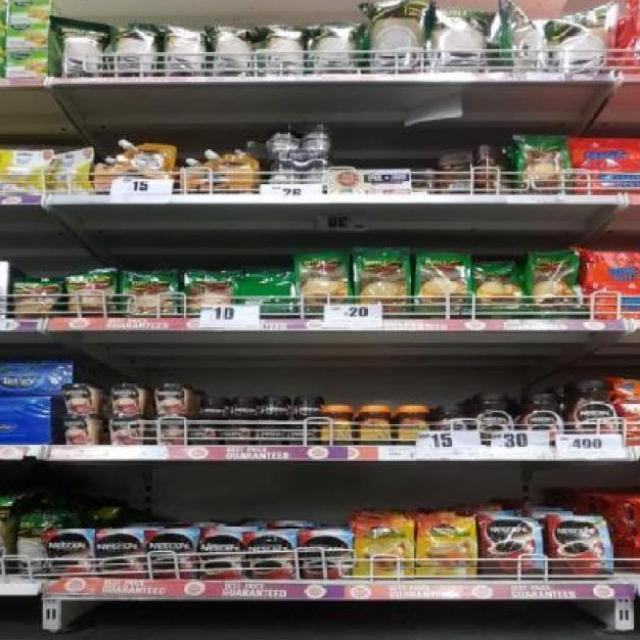Coffee: (481, 520, 543, 581), (550, 519, 610, 580), (419, 519, 475, 579), (357, 520, 413, 578), (569, 380, 619, 436), (143, 531, 196, 578), (477, 394, 520, 446), (246, 533, 295, 578), (96, 531, 143, 576), (47, 531, 95, 575), (523, 395, 567, 443), (303, 532, 348, 578), (198, 533, 239, 578), (437, 407, 472, 444), (319, 406, 351, 446), (397, 406, 428, 444), (360, 406, 389, 444), (197, 399, 229, 419), (298, 397, 323, 420), (189, 423, 216, 443), (263, 397, 288, 418), (253, 426, 283, 443), (230, 398, 256, 417), (221, 425, 248, 443), (286, 428, 314, 445)
